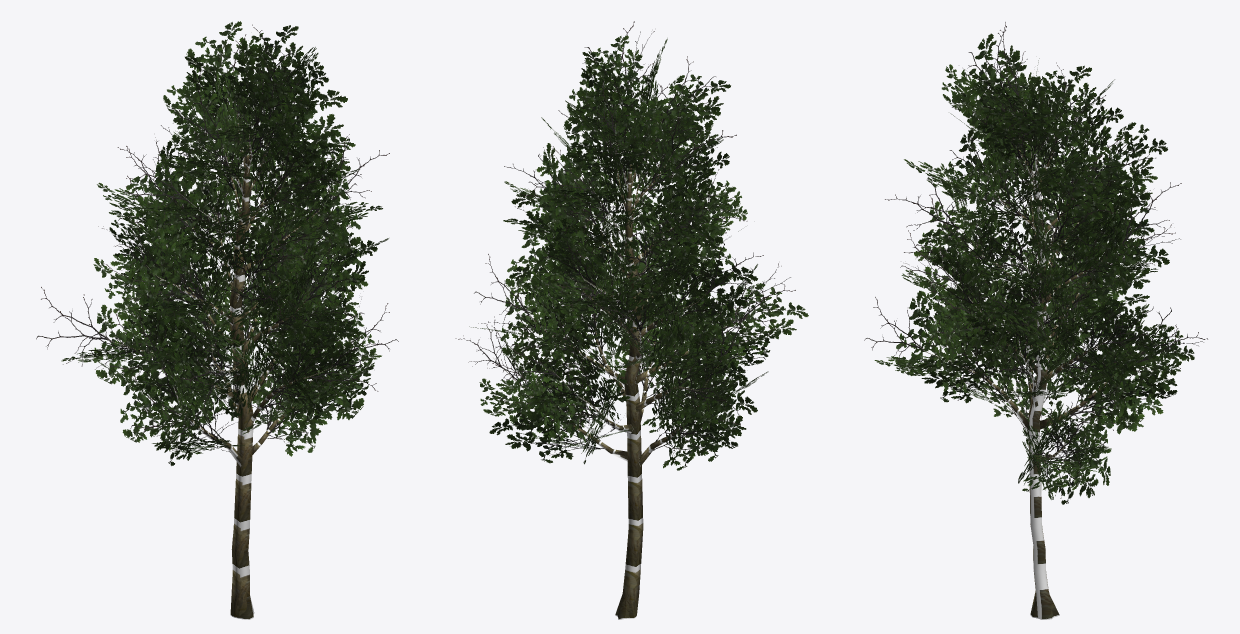
Rendered from TreeOak04_Test.fbx.
3 renders of one model, left to right at view 1: azimuth 30°, elevation 25°; view 2: azimuth 150°, elevation 25°; view 3: azimuth 270°, elevation 25°, orthographic. The views are drawn at different scales.
Visible parts, largest first — view 1: TreeOak04; view 2: TreeOak04; view 3: TreeOak04.
Boxes of the visible parts, <box> form: TreeOak04: <box>36,21,398,619</box>; TreeOak04: <box>455,21,808,619</box>; TreeOak04: <box>864,22,1207,619</box>.
Bounding box in the file's own units: 1202 × 2020 × 1175.
